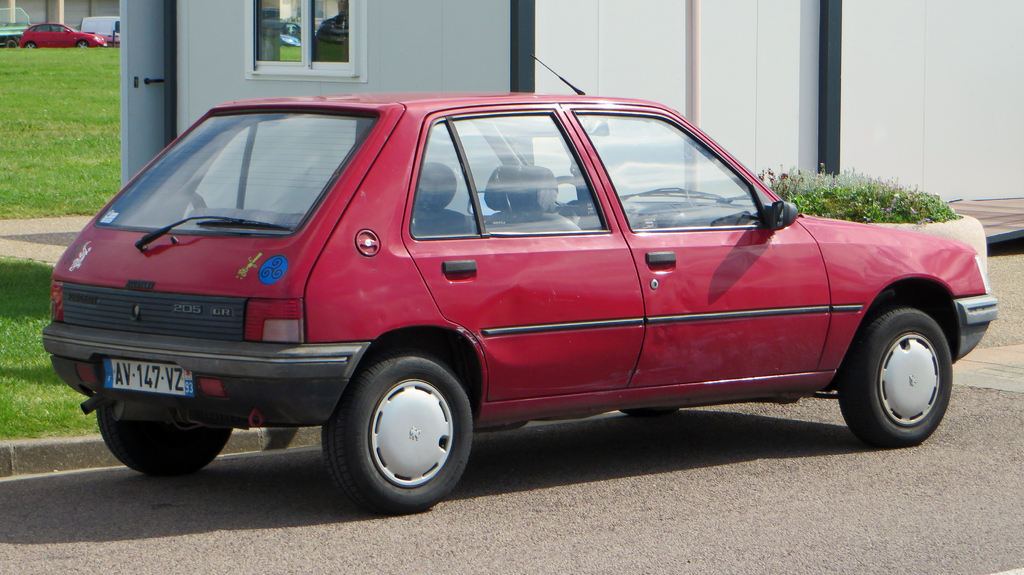Car: (40, 54, 999, 514), (16, 21, 109, 48)
